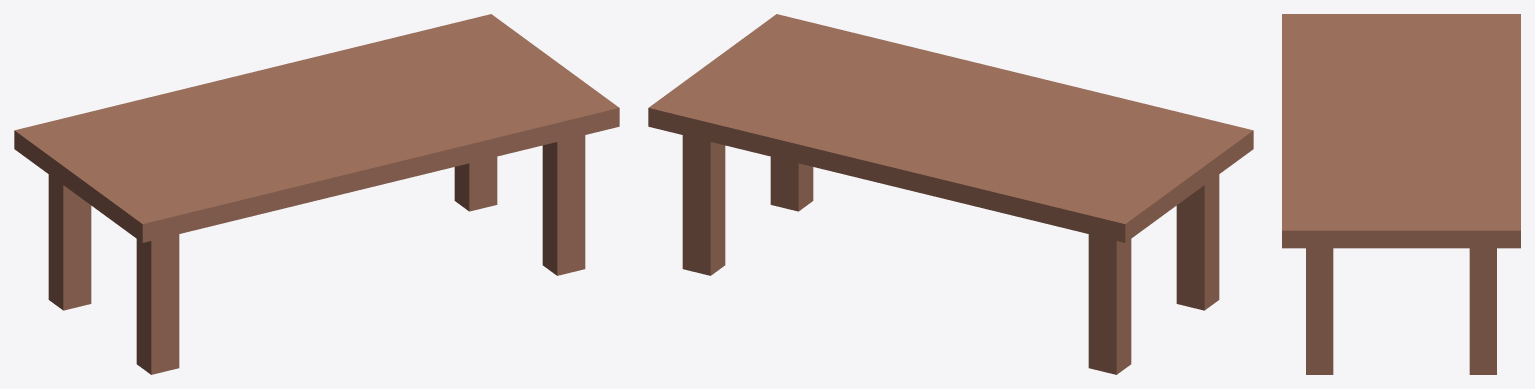
The model's file is Table.fbx.
3 renders of one model, left to right at view 1: azimuth 30°, elevation 25°; view 2: azimuth 150°, elevation 25°; view 3: azimuth 270°, elevation 25°, orthographic. The views are drawn at different scales.
Visible parts, largest first — view 1: Table; view 2: Table; view 3: Table.
Boxes of the visible parts, bbox=[...] form: Table: bbox=[14, 14, 619, 374]; Table: bbox=[648, 14, 1253, 374]; Table: bbox=[1282, 14, 1520, 374].
Bounding box in the file's own units: 4.16 × 1.38 × 1.94.
